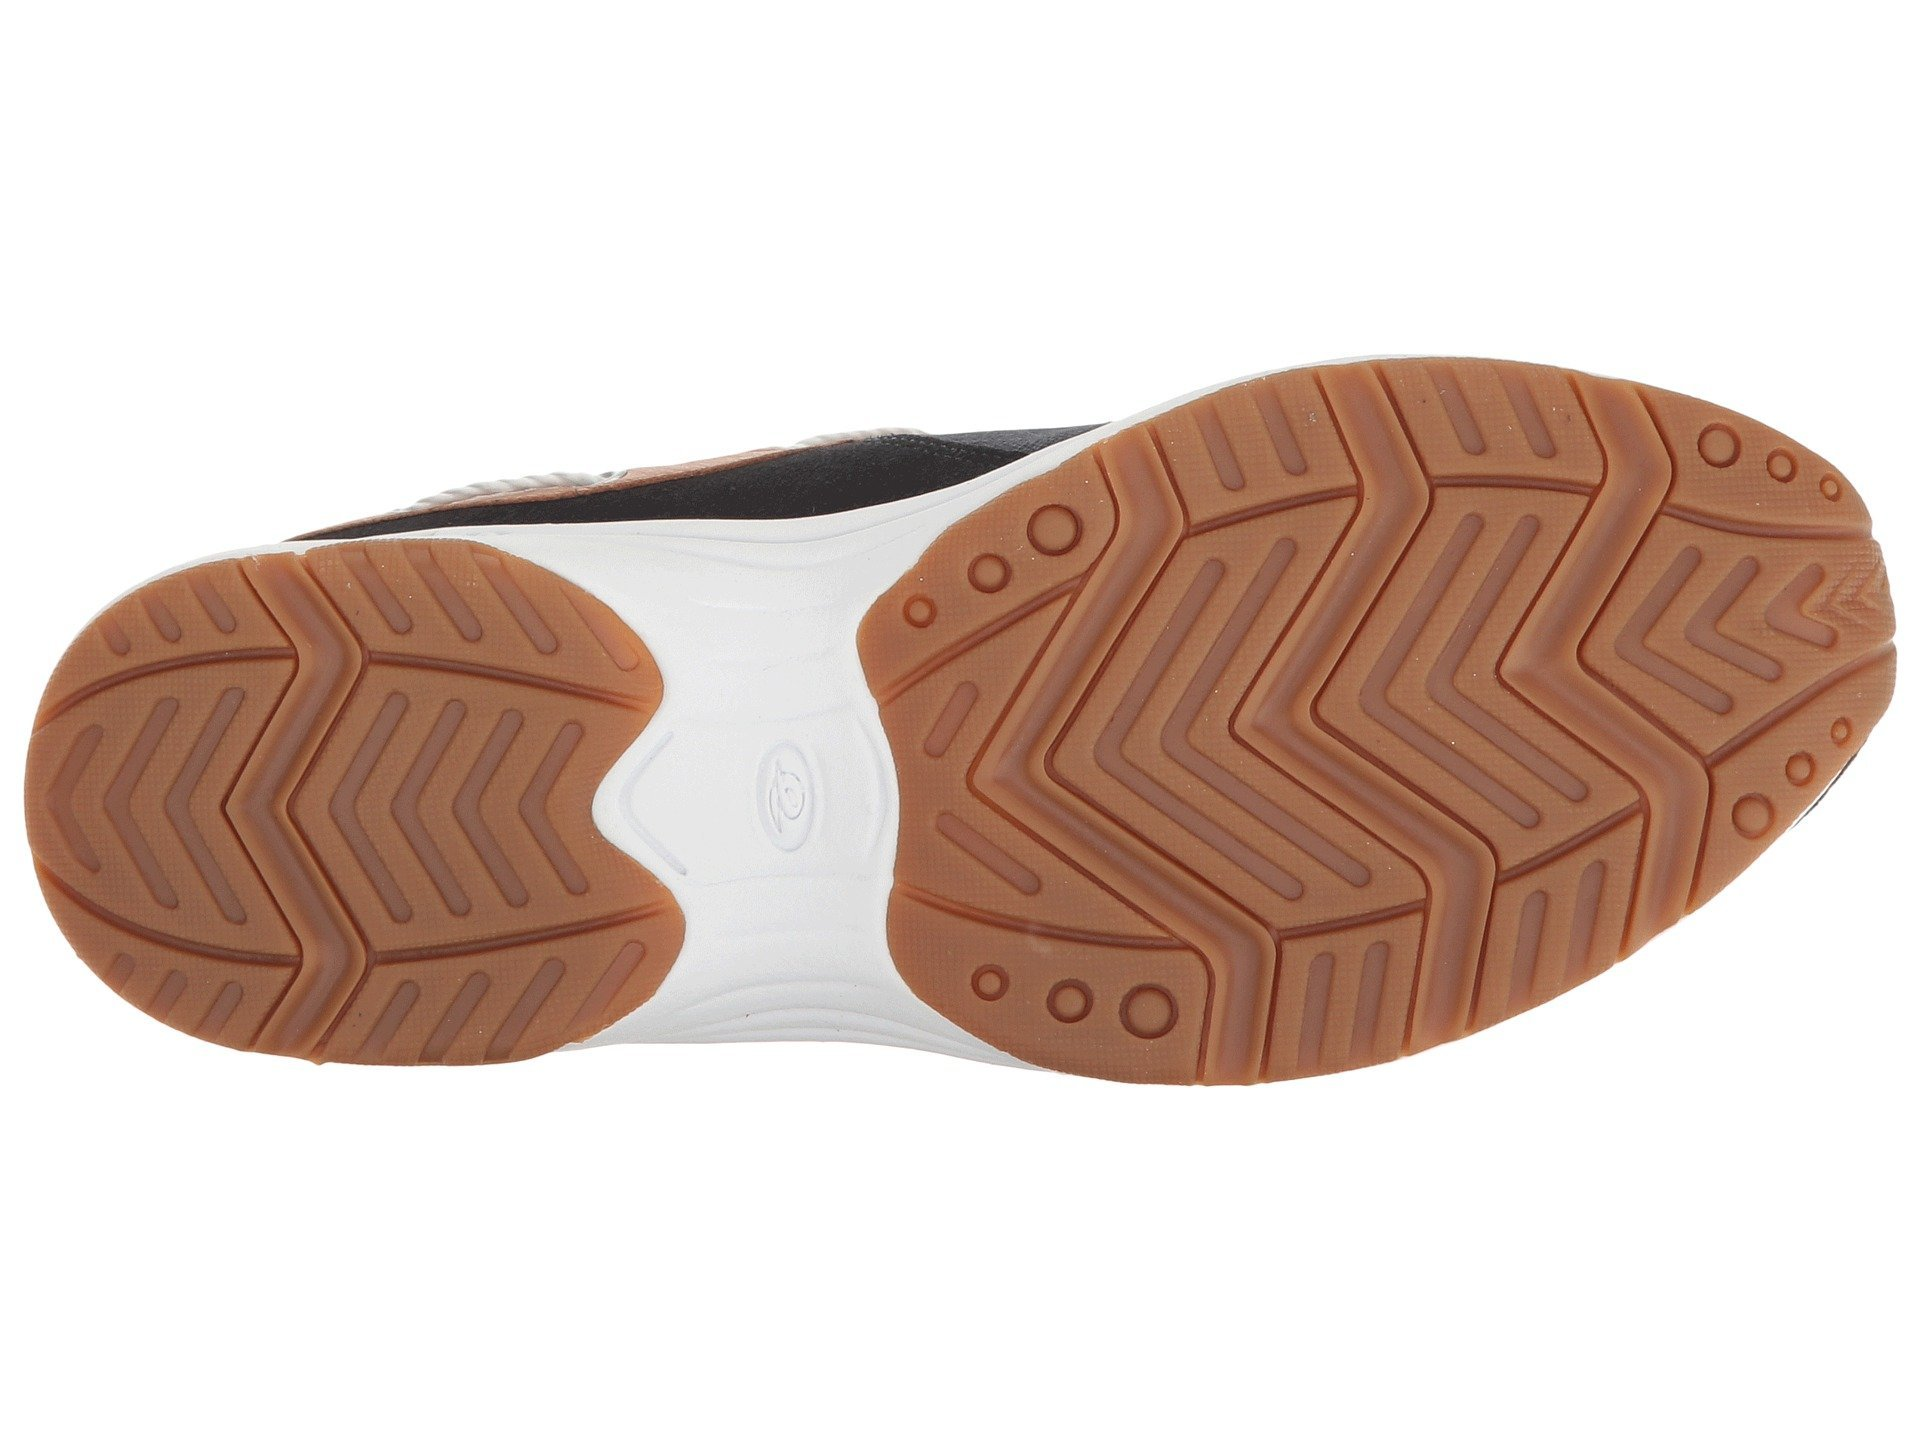chevron: (1048, 545, 1497, 983), (144, 659, 529, 1033), (1569, 563, 1764, 737)
circle: (892, 484, 1101, 682), (701, 703, 904, 897), (1655, 386, 1811, 549)
